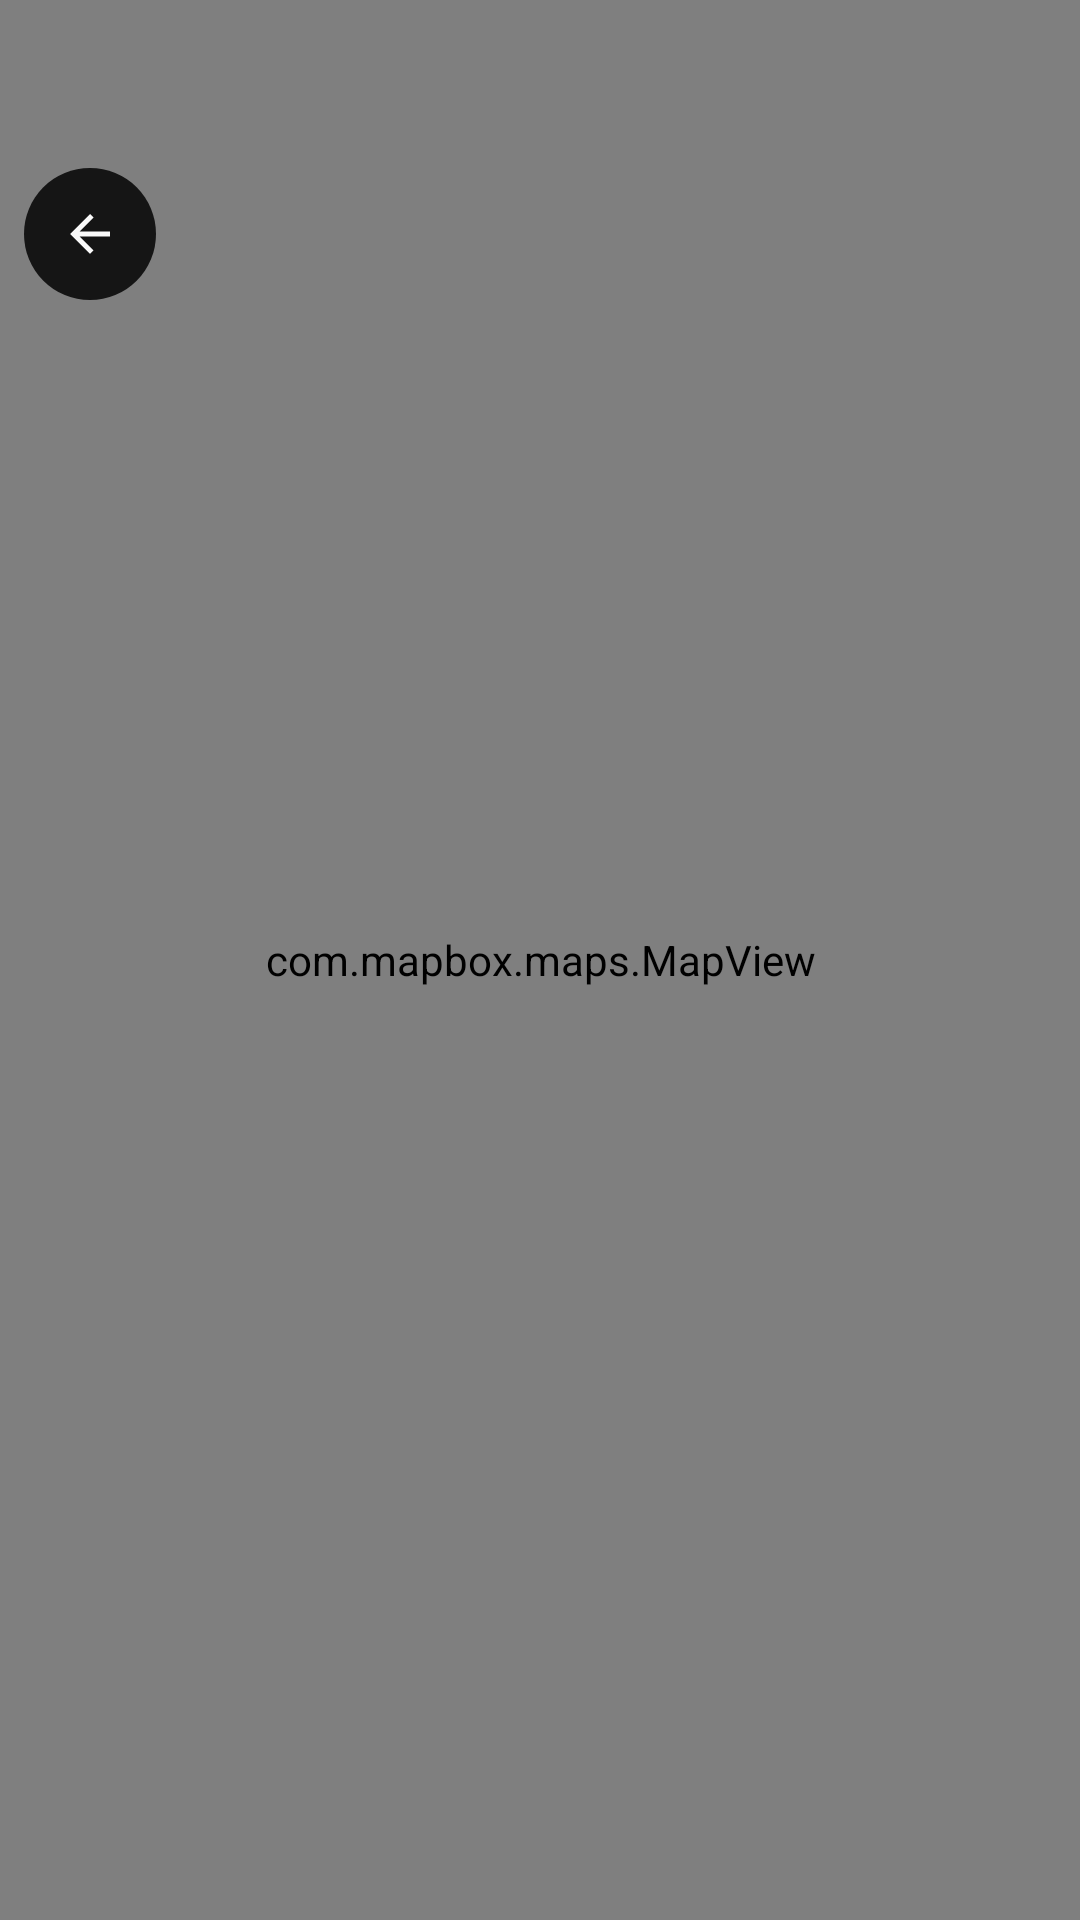

Named icons in this screenshot (1080×1920) and their centers, (x=x, y=y):
Back to documentation examples menu: (x=90, y=234)
